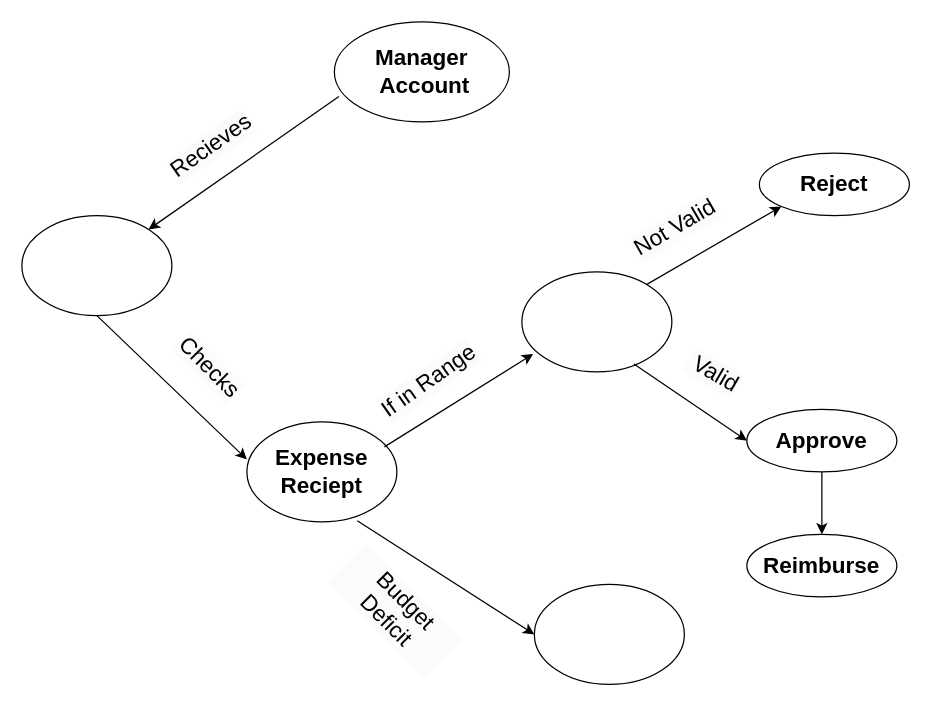
Some shapes in this 931 by 714 pixel diagram are drawn without their labels. Here are the shapes that lost their labels. From the top down, the centre of each, then its label:
At (96,265): "Request of Approval".
At (596,321): "Verify Document".
At (608,633): "Request Pending".
